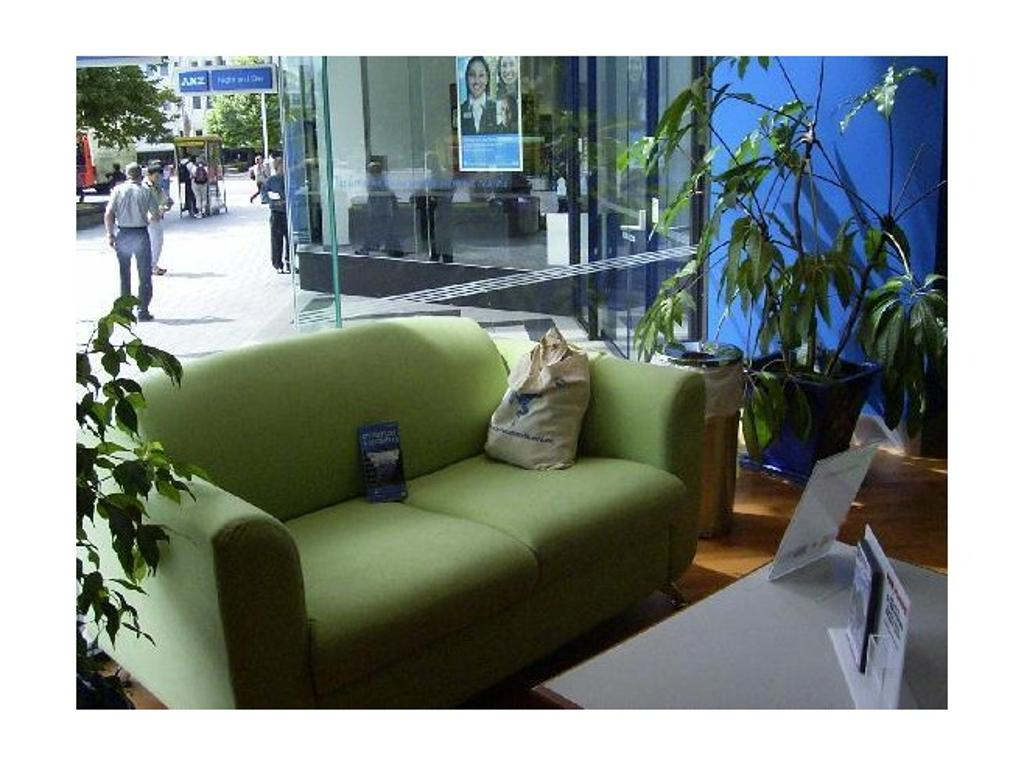face: (467, 61, 485, 96), (500, 56, 516, 84), (500, 98, 513, 123)
